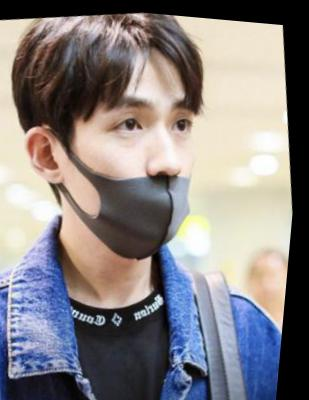WRONG: (62, 76, 219, 268)
